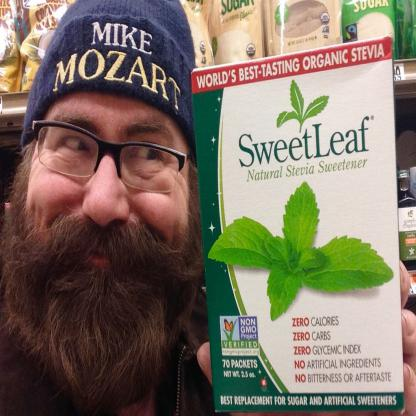book: (160, 15, 406, 416)
